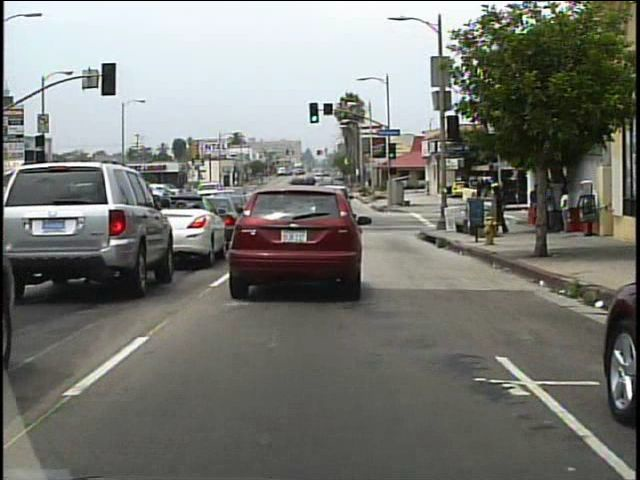person: (498, 182, 511, 235), (559, 188, 573, 234), (529, 183, 542, 223), (548, 182, 549, 235)
